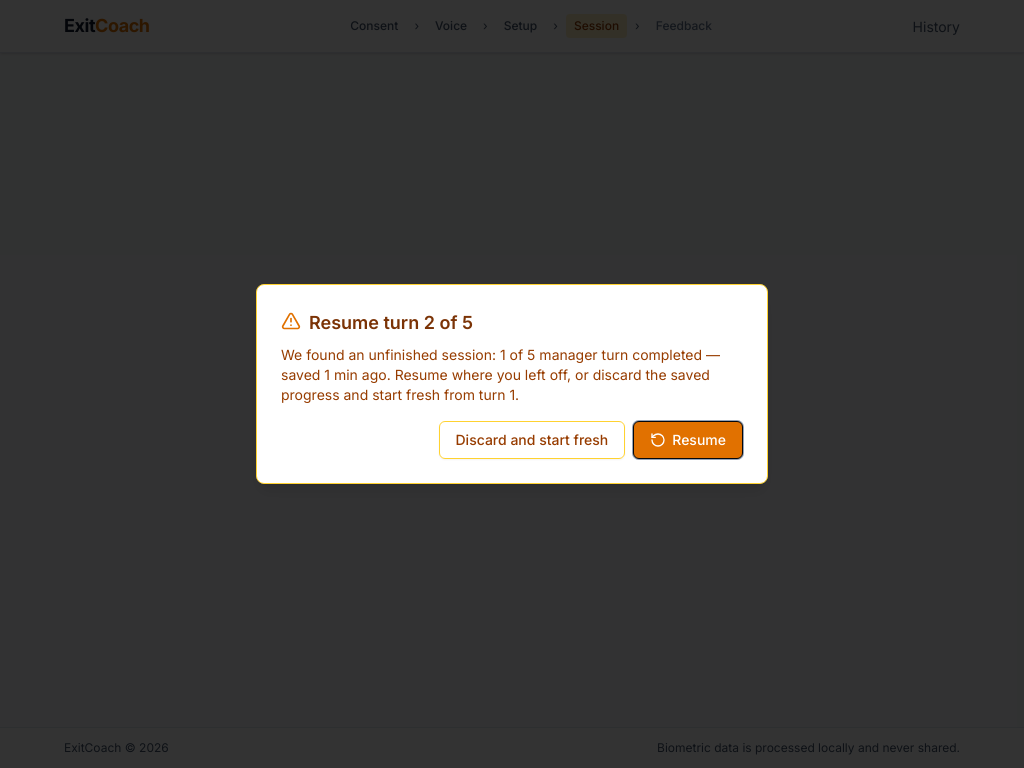
Test: Session — recovery modal (R2) › Resume keeps the modal open with an inline error + Retry when the readiness refetch fails with a network error
The width and height of the screenshot is (1024, 768).
Click the button "Resume" at (688, 440), box [633,421,743,459]
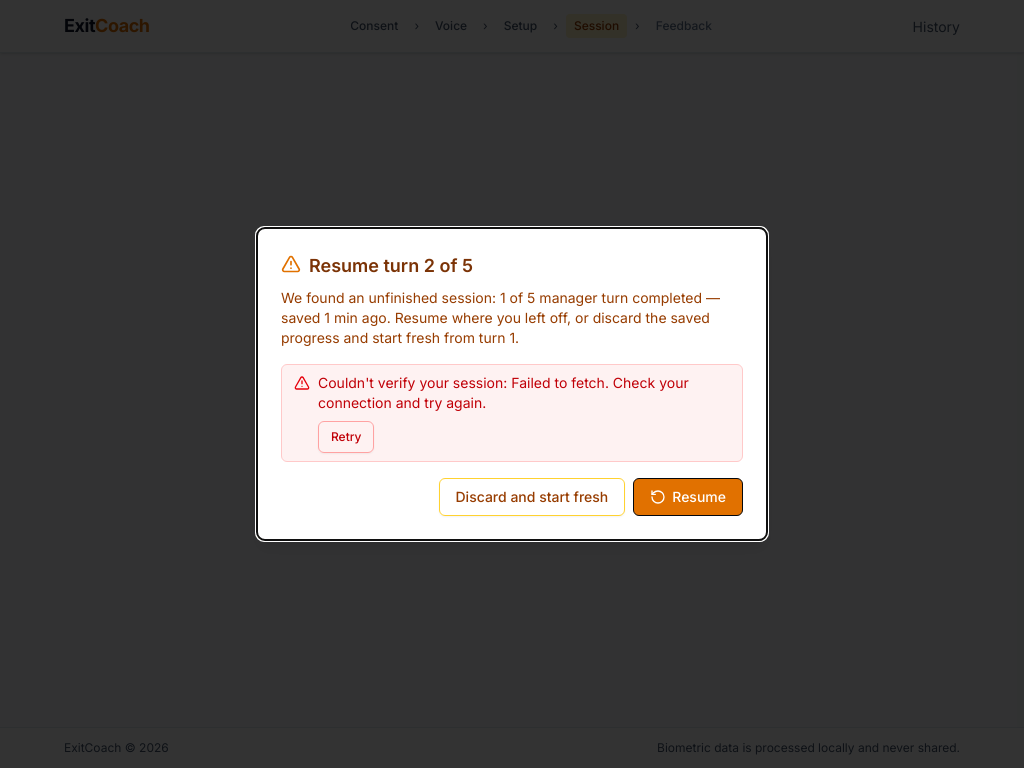
Expected: the dialog is shown, [256,227,768,541]
Expected: the text "Couldn't verify your session" is shown, [318,374,689,411]
Expected: the button "Retry" is shown, [318,421,374,453]
